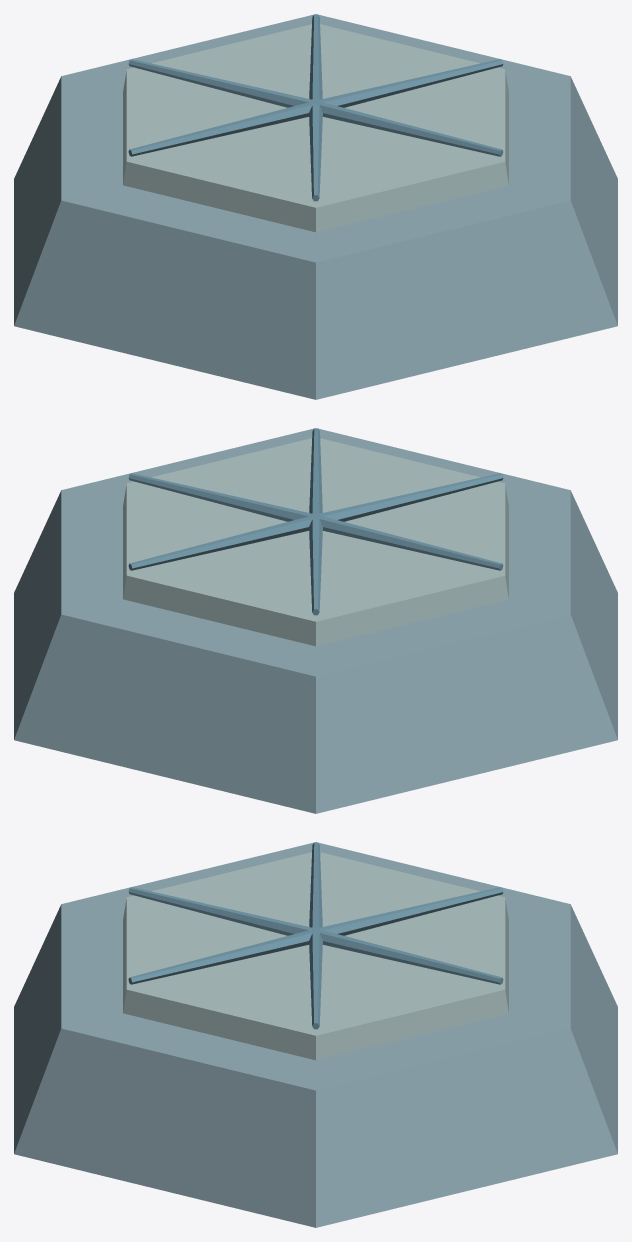
The model's file is map-exclusive-v3__frost_05.glb.
The picture shows the model from 3 angles, top to bottom: view 1: azimuth 30°, elevation 25°; view 2: azimuth 150°, elevation 25°; view 3: azimuth 270°, elevation 25°; orthographic projection.
Parts seen in each view (by area): view 1: frost_05; view 2: frost_05; view 3: frost_05.
Part boxes in pixels (<box>): frost_05: <box>14,14,617,399</box>; frost_05: <box>14,428,617,813</box>; frost_05: <box>14,842,617,1227</box>.
Bounding box in the file's own units: 1.66 × 0.3948 × 1.44.
